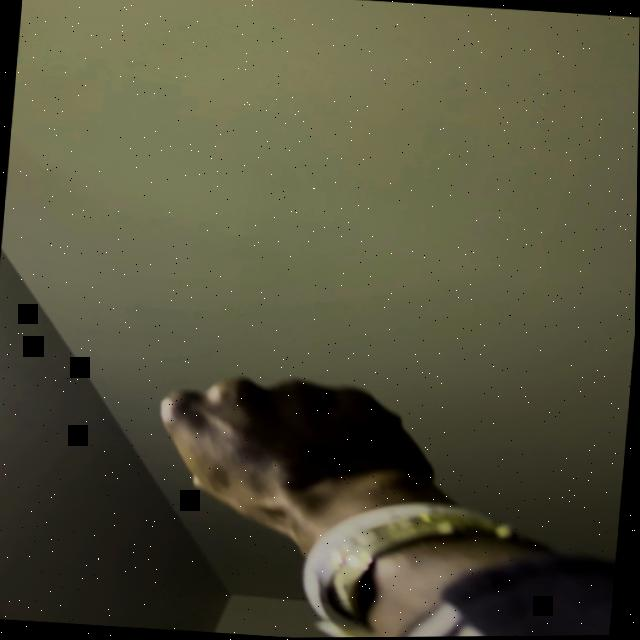Rock: (154, 368, 444, 528)
